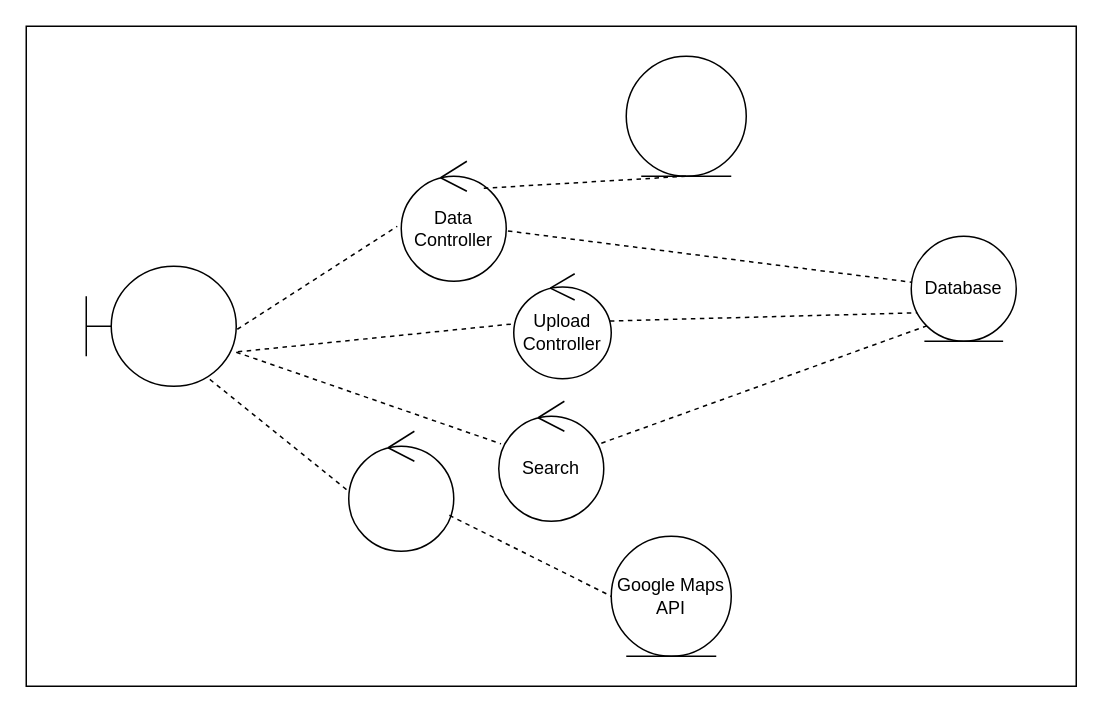
The diagram is 1103 pixels wide and 713 high, and some of its shapes have lost their labels. Here are the shapes that lost their labels. From the top down, the centre of each, then its label:
point 685,115: Wikipedia
point 160,325: User Interface
point 400,490: Map Controller
